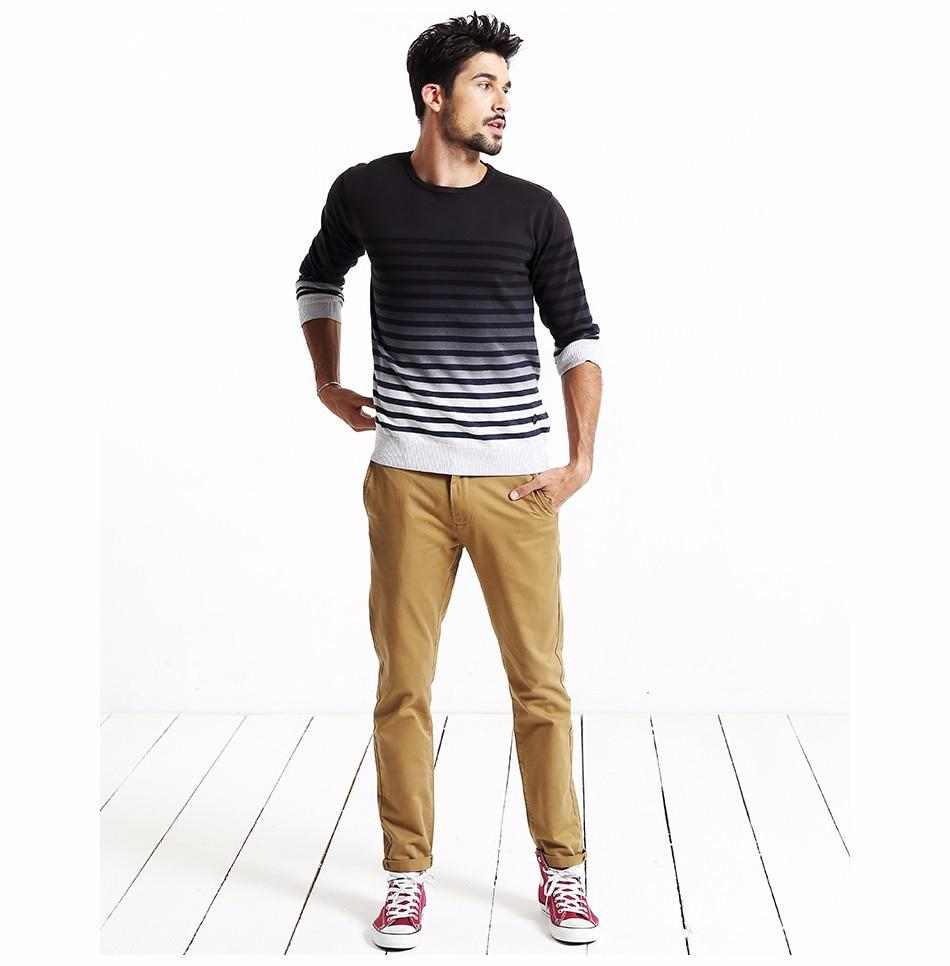pants: (361, 464, 584, 867)
